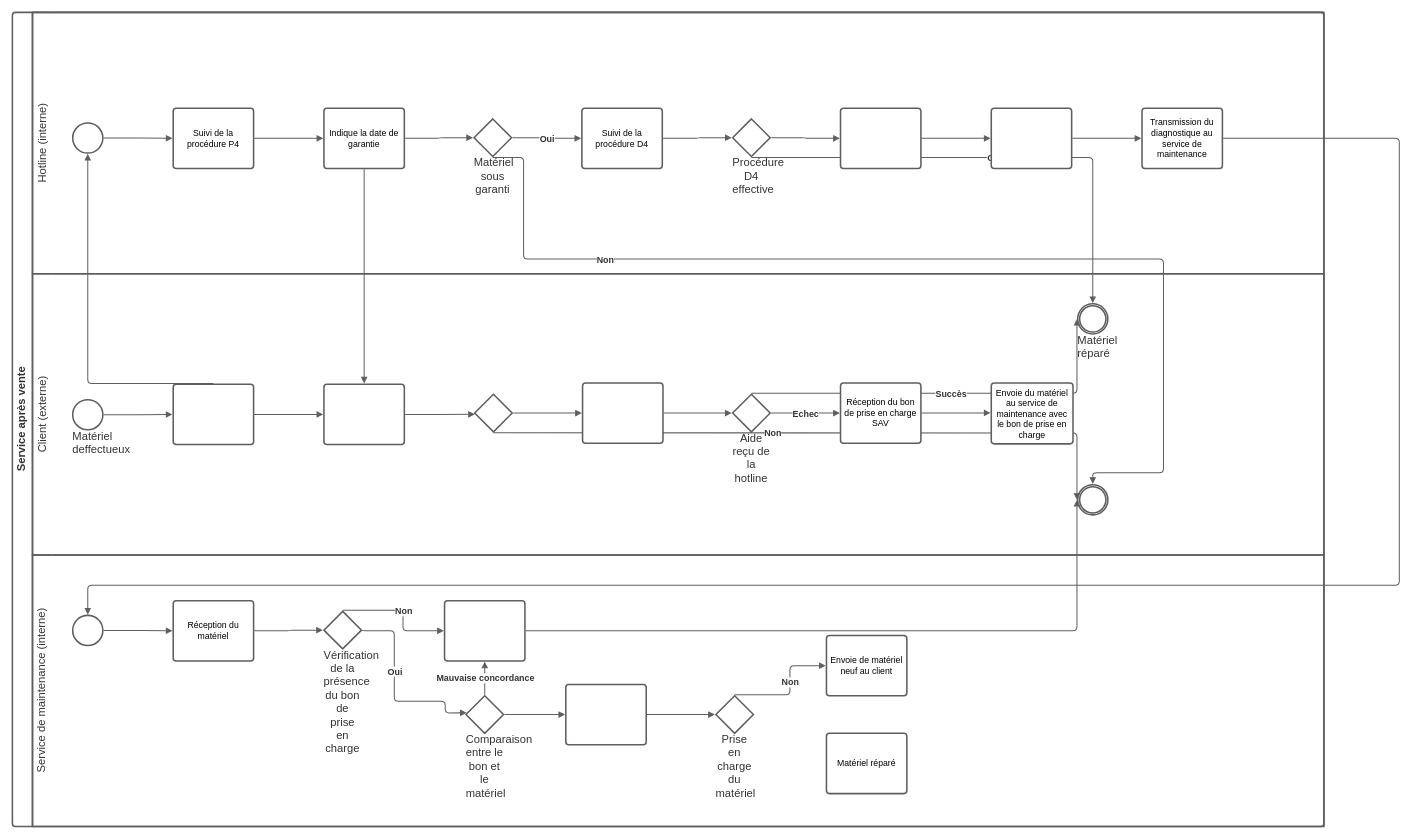
The diagram is 1416 pixels wide and 839 high, and some of its shapes have lost their labels. The centre of each missing label's shape, as x and y in pixels:
"Aide téléphonique de la hotline" belongs at (x=622, y=413).
"Appel client" belongs at (x=87, y=138).
"Appel vers le SAV" belongs at (x=213, y=414).
"Complétion d'un bon de prise en charge SAV" belongs at (x=880, y=138).
"Complétion du diagnostique" belongs at (x=606, y=714).
"Matériel non réparé" belongs at (x=1092, y=499).
"Première réponse du SAV" belongs at (x=364, y=414).
"Renvoie du matériel au client avec notification de reçu" belongs at (x=484, y=630).
"Réception du diagnostique réalisé par la Hotline" belongs at (x=87, y=630).
"Tentative de réparation" belongs at (x=493, y=412).
"Transmission du bon par mail au client" belongs at (x=1031, y=138).
